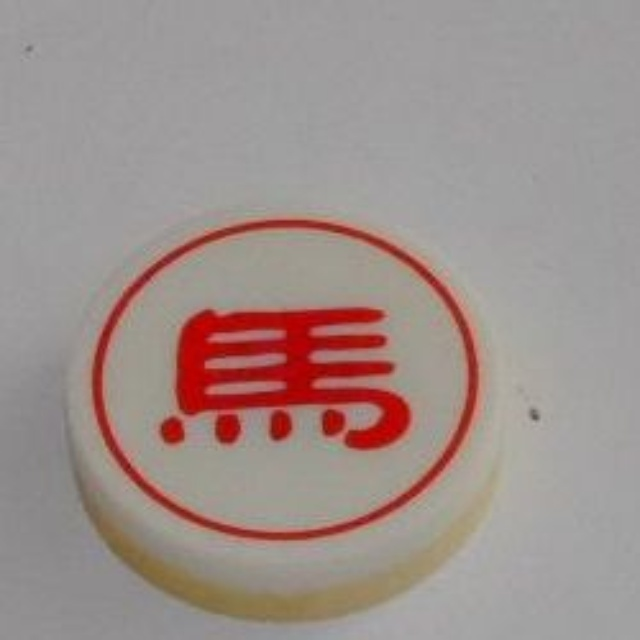red_ma: (57, 193, 520, 615)
